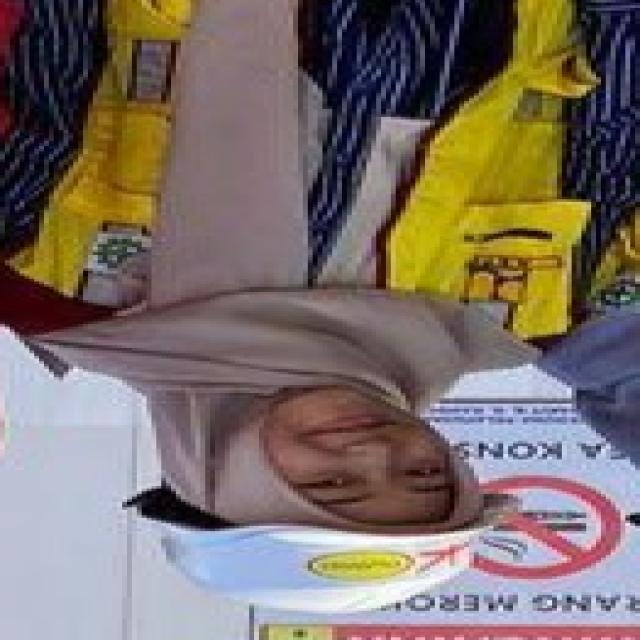safetyhelmet: (122, 397, 506, 617)
